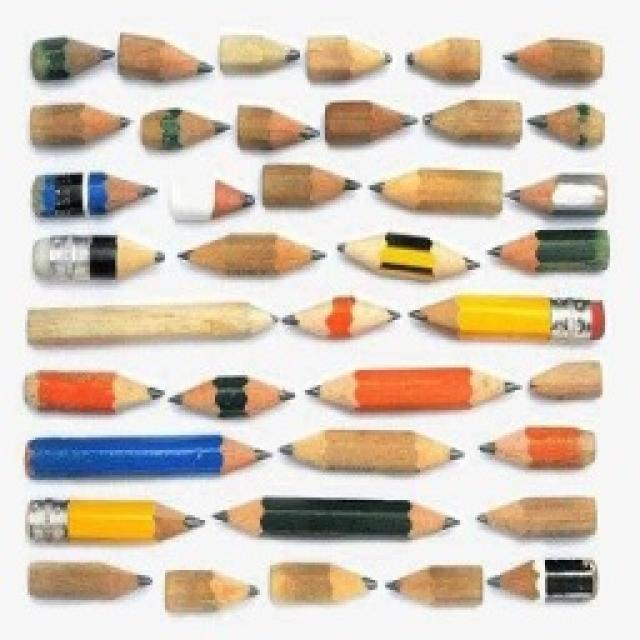pencil: (15, 13, 617, 635)
